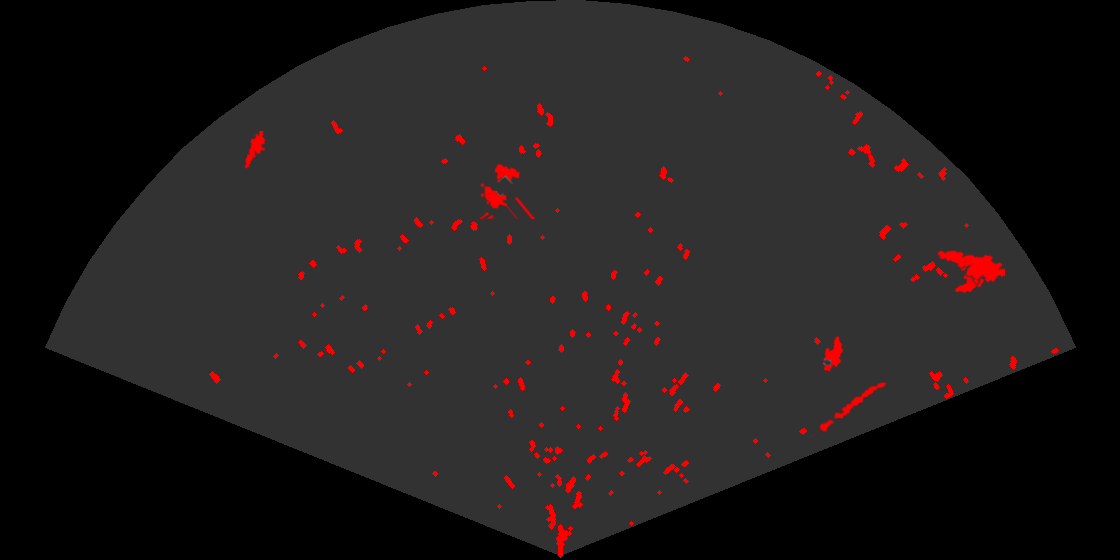AUV: (953, 266, 988, 295), (821, 334, 845, 373)
cage: (477, 162, 535, 219)
chain: (809, 380, 888, 438)
frogman: (936, 249, 1005, 286), (243, 131, 267, 169)
